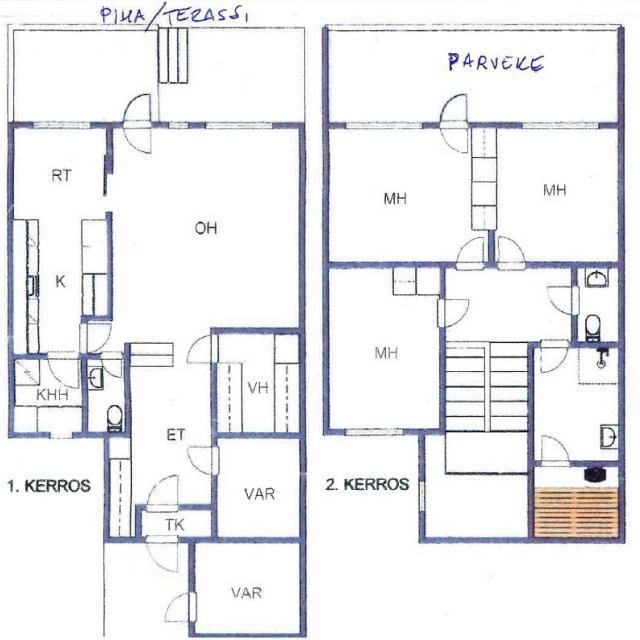door: (146, 538, 178, 576), (148, 473, 178, 511), (48, 353, 78, 391), (123, 122, 151, 158), (123, 93, 151, 129), (545, 286, 578, 315), (162, 592, 195, 620), (82, 324, 115, 352), (542, 432, 569, 466), (185, 447, 217, 475), (439, 300, 472, 327), (441, 122, 467, 156), (441, 94, 467, 128), (542, 342, 568, 376), (457, 235, 483, 268), (498, 235, 524, 268), (186, 335, 217, 362), (102, 353, 122, 381)
